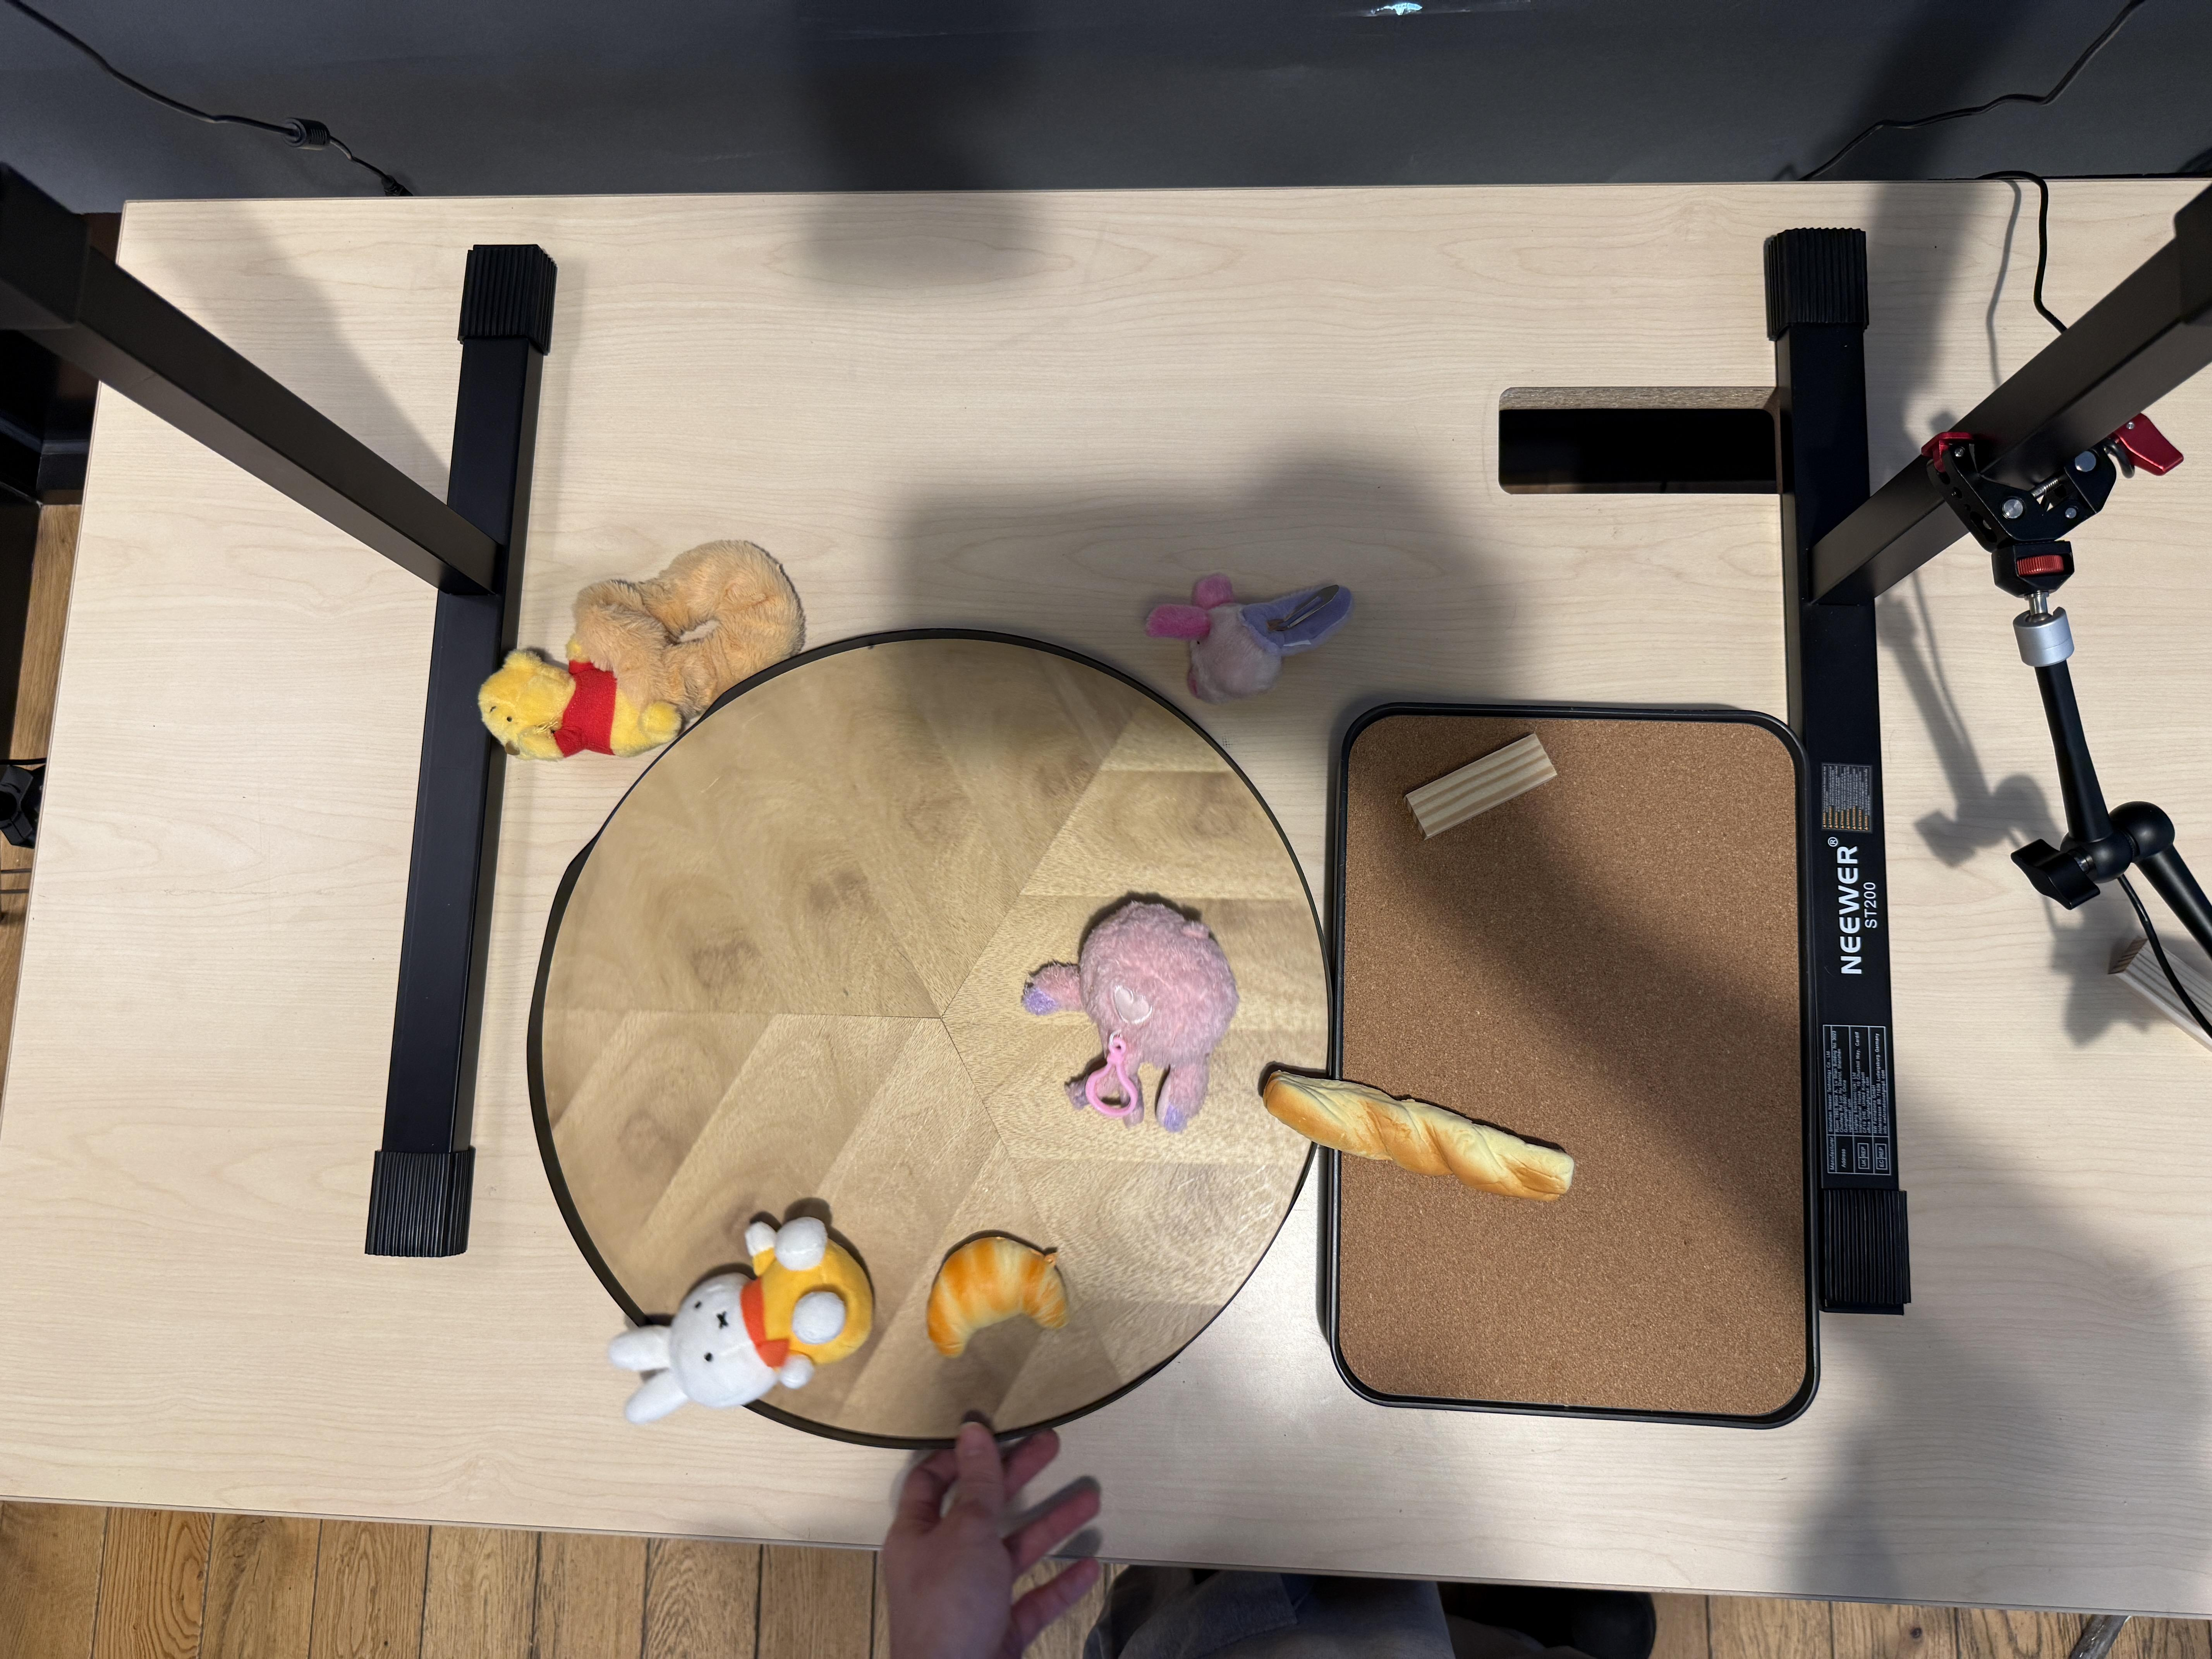block: (1407, 730, 1559, 836)
bread: (1261, 1065, 1578, 1202), (923, 1230, 1069, 1352)
doll: (481, 542, 803, 751), (613, 1213, 880, 1424), (1024, 899, 1237, 1127), (1144, 570, 1352, 704)
